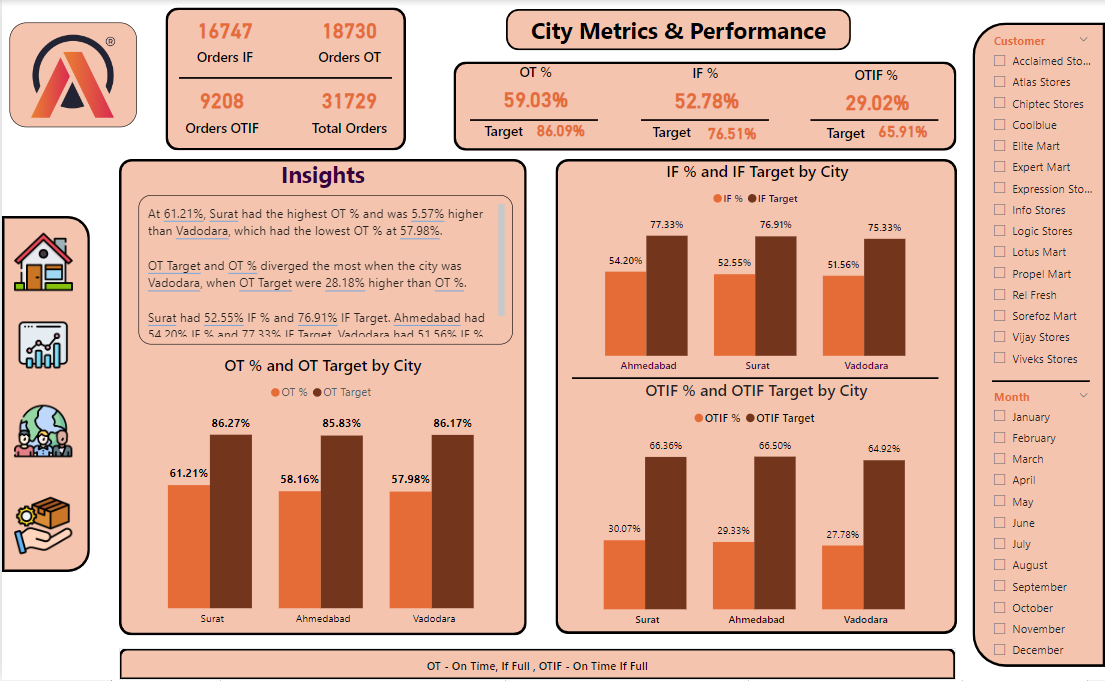

The page's visual inventory and layout, read from the dashboard file:
{"tool":"powerbi","page":{"name":"City Metrics & Performance","canvas":[1300,800],"ordinal":1},"visuals":[{"type":"shape","box":[138.4,187,480,560.9],"z":0},{"type":"shape","box":[650.8,187,472.8,559.1],"z":1000},{"type":"shape","box":[1143.4,27,156.4,758.7],"z":2000},{"type":"shape","box":[531.6,71.6,592.2,105],"z":3000},{"type":"shape","box":[192.5,8.1,283.1,168.3],"z":4000},{"type":"shape","box":[593.8,11.3,406.1,48.5],"z":5000},{"type":"card","fields":{"Values":["Measure Table.OT %"]},"box":[569.4,100.7,118.1,30.7],"z":6000},{"type":"shape","box":[584,67.9,87.4,34],"z":7000},{"type":"shape","box":[551.6,133.2,150.5,17.8],"z":8000},{"type":"shape","box":[551.8,140.9,79.3,24.3],"z":9000},{"type":"card","fields":{"Values":["Measure Table.On Time Target"]},"box":[618.4,140.2,79.1,25.2],"z":10000},{"type":"card","fields":{"Values":["Measure Table.IF %"]},"box":[770,102.4,118.1,30.7],"z":11000},{"type":"shape","box":[784.5,69.7,87.4,34],"z":12000},{"type":"shape","box":[752.2,133.2,150.5,17.8],"z":13000},{"type":"shape","box":[749.2,142.5,79.3,24.3],"z":14000},{"type":"card","fields":{"Values":["Measure Table.IF Target"]},"box":[818.7,142.5,79.3,25.9],"z":15000},{"type":"card","fields":{"Values":["Measure Table.OTIF %"]},"box":[970.5,104.2,118.1,30.7],"z":16000},{"type":"shape","box":[985.1,71.4,87.4,34],"z":17000},{"type":"shape","box":[952.7,133.2,150.5,17.8],"z":18000},{"type":"shape","box":[953,142.5,79.3,25.9],"z":19000},{"type":"card","fields":{"Values":["Measure Table.OTIF Target"]},"box":[1021.1,142,79.1,27],"z":20000},{"type":"card","fields":{"Values":["Measure Table.Total Orders"]},"box":[359.2,87.4,100.3,84.1],"z":21000},{"type":"card","fields":{"Values":["Measure Table.No Of Orders delivered OT"]},"box":[359.2,8.1,100.3,72.8],"z":22000},{"type":"card","fields":{"Values":["Measure Table.Orders IF"]},"box":[212,8.1,100.3,72.8],"z":23000},{"type":"card","fields":{"Values":["Measure Table.Orders IF & OT"]},"box":[208.7,87.4,100.3,84.1],"z":24000},{"type":"shape","box":[208.7,80.9,250.8,21],"z":25000},{"type":"clusteredColumnChart","title":"OT % and OT Target by City","fields":{"Category":["dim_customers.city"],"Y":["Measure Table.OT %","Measure Table.OT Target"]},"box":[138.4,417.1,480,329],"z":26000},{"type":"clusteredColumnChart","title":"IF % and IF Target by City","fields":{"Category":["dim_customers.city"],"Y":["Measure Table.IF %","Measure Table.IF Target"]},"box":[653.4,189,471.5,259.6],"z":27000},{"type":"clusteredColumnChart","title":"OTIF % and OTIF Target by City","fields":{"Category":["dim_customers.city"],"Y":["Measure Table.OTIF %","Measure Table.OTIF Target"]},"box":[650.8,447.6,472.8,300.2],"z":28000},{"type":"textbox","box":[160,230.1,440.4,176.2],"z":29000},{"type":"slicer","fields":{"Values":["dim_customers.customer_name"]},"box":[1154.2,34.2,136.6,405],"z":30000},{"type":"slicer","fields":{"Values":["dim_date.date.Variation.Date Hierarchy.Month"]},"box":[1154.2,451.2,136.6,330.8],"z":31000},{"type":"shape","box":[1164.9,438.7,115.1,21.6],"z":32000},{"type":"shape","box":[138.4,762.2,985.2,37.8],"z":33000},{"type":"shape","box":[0,254.9,103.6,419.1],"z":34000},{"type":"image","box":[9.7,465.2,79.3,85.8],"z":35000},{"type":"image","box":[9.7,363.6,79.3,85],"z":36000},{"type":"image","box":[9.7,575.2,79.3,85.8],"z":37000},{"type":"image","box":[8.8,264.3,79.5,86.5],"z":38000},{"type":"shape","box":[670.6,438.7,431.5,14.4],"z":39000},{"type":"image","box":[8.8,26.5,150.1,123.6],"z":40000}]}

Visuals, with their boxes in screenshot pixels (x1, y1, x2, y2), scaled from the page's 1300x800 canvas onto the 1105x681 screenshot:
shape: box(118, 159, 526, 637)
shape: box(553, 159, 955, 635)
shape: box(972, 23, 1104, 669)
shape: box(452, 61, 955, 150)
shape: box(164, 7, 404, 150)
shape: box(505, 10, 850, 51)
card - Measure Table.OT %: box(484, 86, 584, 112)
shape: box(496, 58, 571, 87)
shape: box(469, 113, 597, 129)
shape: box(469, 120, 536, 141)
card - Measure Table.On Time Target: box(526, 119, 593, 141)
card - Measure Table.IF %: box(654, 87, 755, 113)
shape: box(667, 59, 741, 88)
shape: box(639, 113, 767, 129)
shape: box(637, 121, 704, 142)
card - Measure Table.IF Target: box(696, 121, 763, 143)
card - Measure Table.OTIF %: box(825, 89, 925, 115)
shape: box(837, 61, 912, 90)
shape: box(810, 113, 938, 129)
shape: box(810, 121, 877, 143)
card - Measure Table.OTIF Target: box(868, 121, 935, 144)
card - Measure Table.Total Orders: box(305, 74, 391, 146)
card - Measure Table.No Of Orders delivered OT: box(305, 7, 391, 69)
card - Measure Table.Orders IF: box(180, 7, 265, 69)
card - Measure Table.Orders IF & OT: box(177, 74, 263, 146)
shape: box(177, 69, 391, 87)
"OT % and OT Target by City" clusteredColumnChart: box(118, 355, 526, 635)
"IF % and IF Target by City" clusteredColumnChart: box(555, 161, 956, 382)
"OTIF % and OTIF Target by City" clusteredColumnChart: box(553, 381, 955, 637)
textbox: box(136, 196, 510, 346)
slicer - dim_customers.customer_name: box(981, 29, 1097, 374)
slicer - dim_date.date.Variation.Date Hierarchy.Month: box(981, 384, 1097, 666)
shape: box(990, 373, 1088, 392)
shape: box(118, 649, 955, 680)
shape: box(0, 217, 88, 574)
image: box(8, 396, 76, 469)
image: box(8, 310, 76, 382)
image: box(8, 490, 76, 563)
image: box(7, 225, 75, 299)
shape: box(570, 373, 937, 386)
image: box(7, 23, 135, 128)
